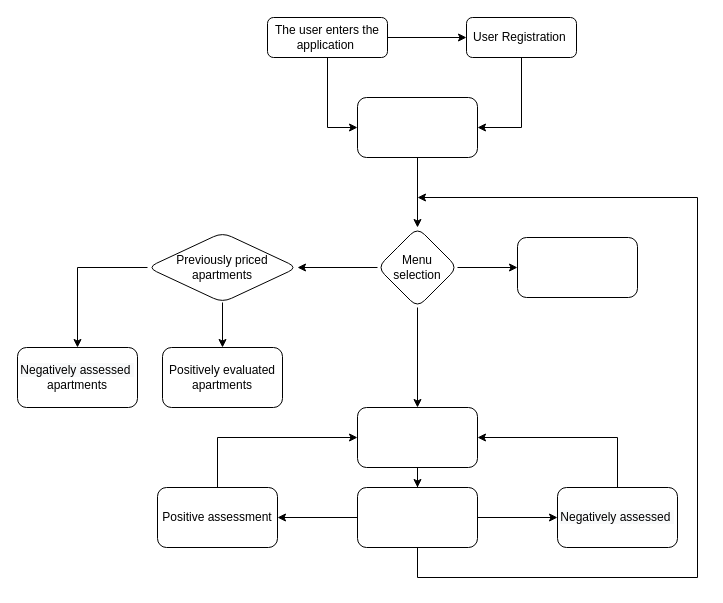
This 723x603 diagram has some shape labels left out. Here are the shapes that lost their labels. From the top down, the centre of each, then its label:
At (417,127): "Authorization".
At (577,267): "exit".
At (417,437): "Filter apartments".
At (417,517): "Search for an apartment".
